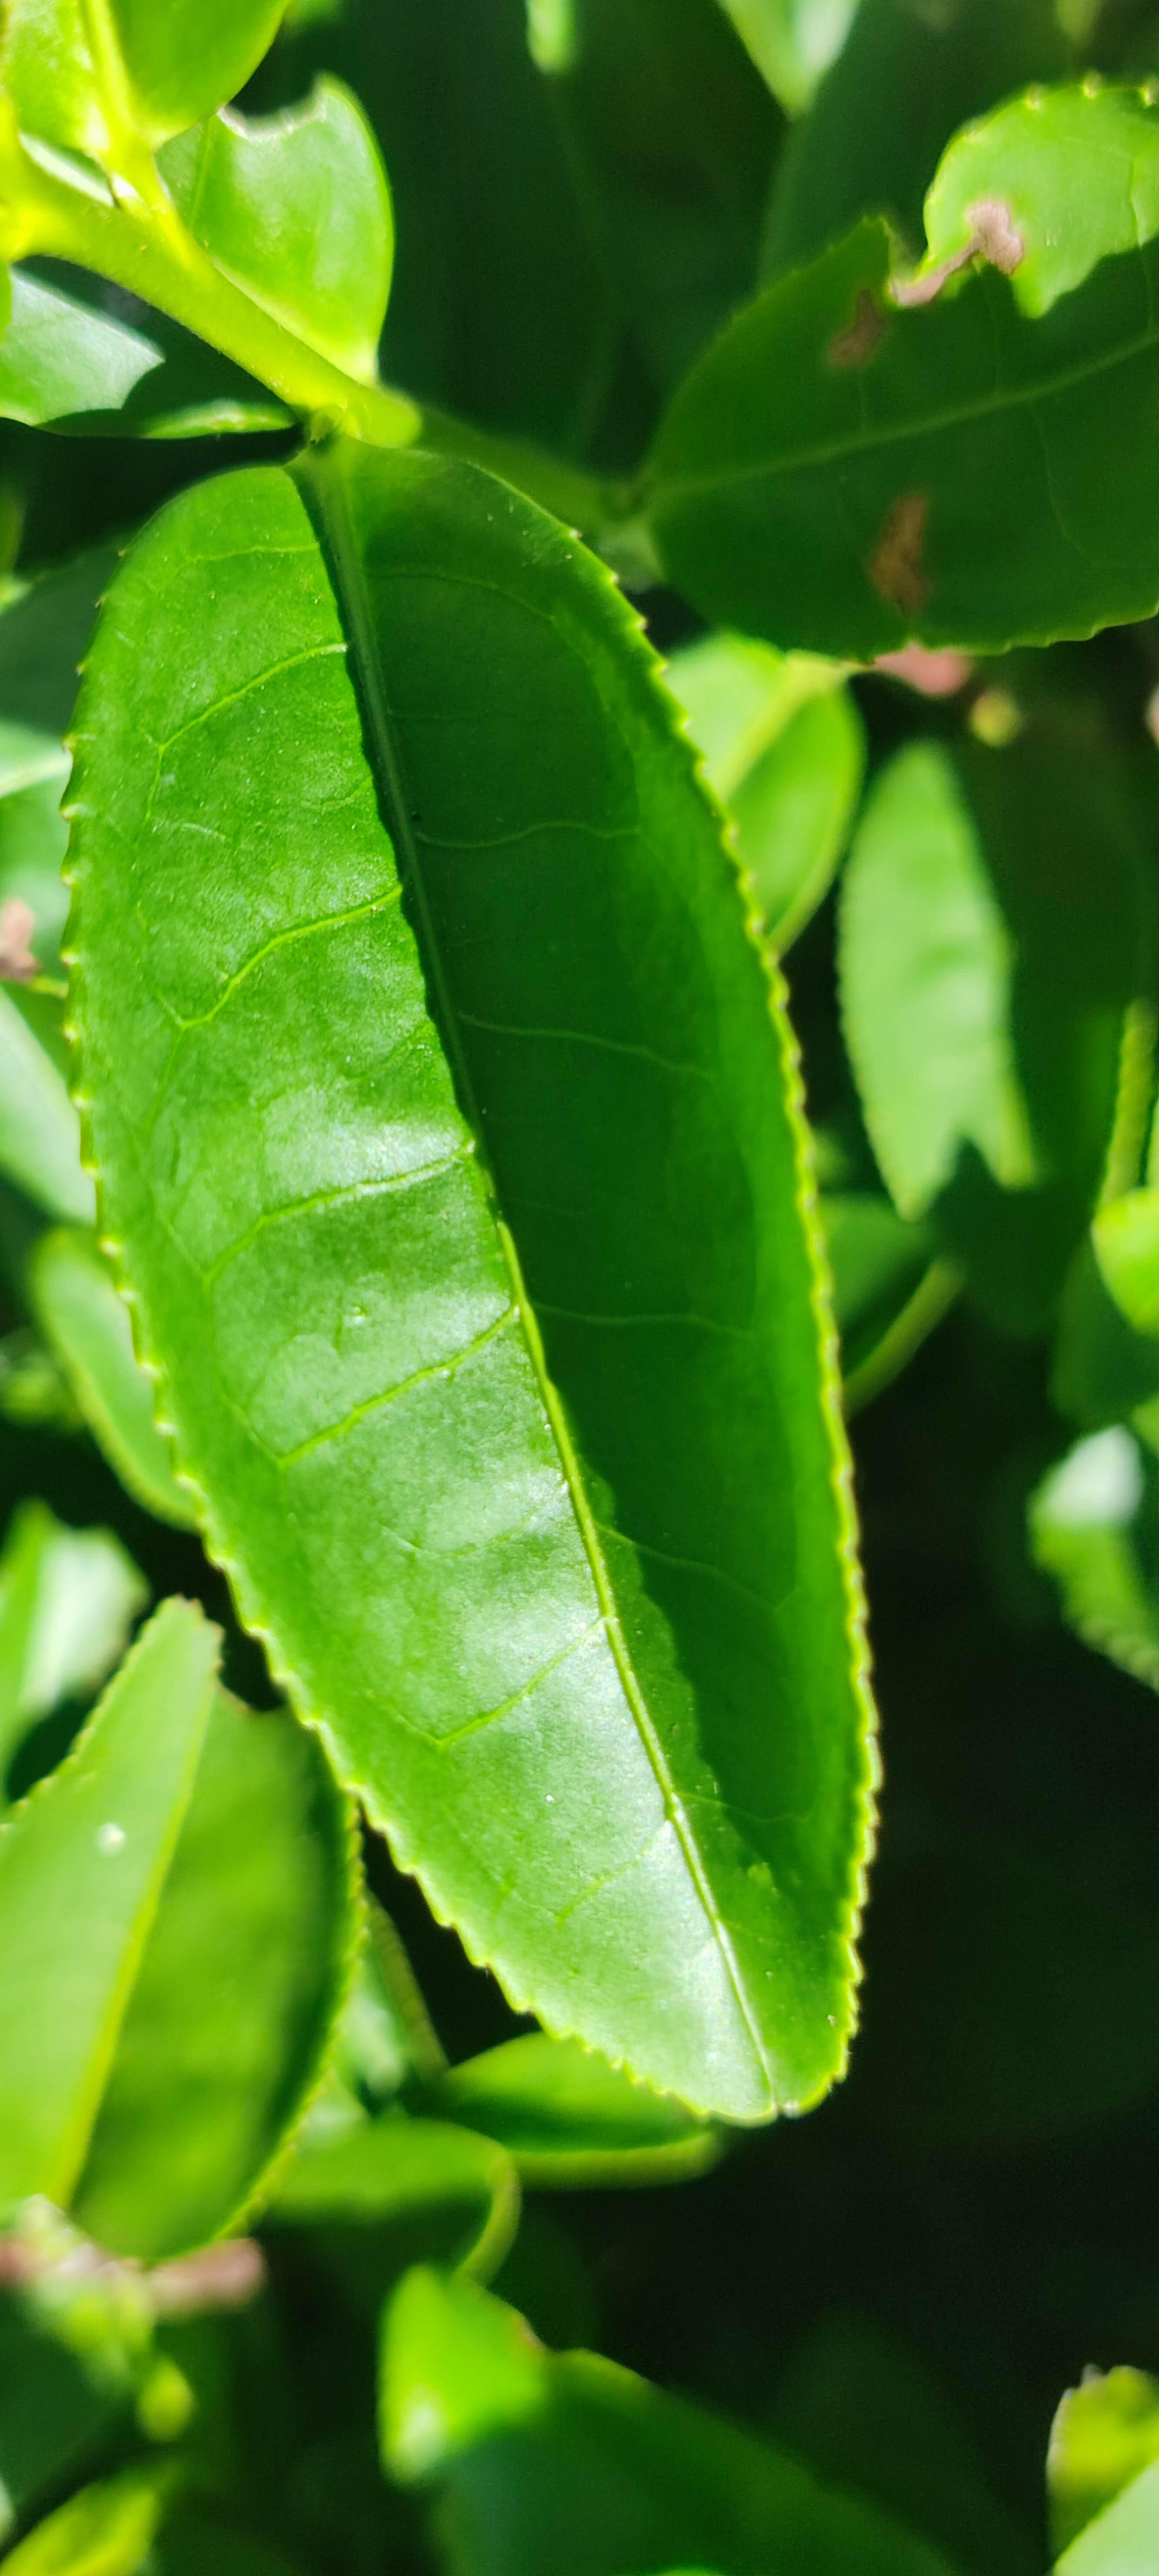healthy: (46, 447, 878, 2127)
tanju_high: (642, 72, 1159, 662)
